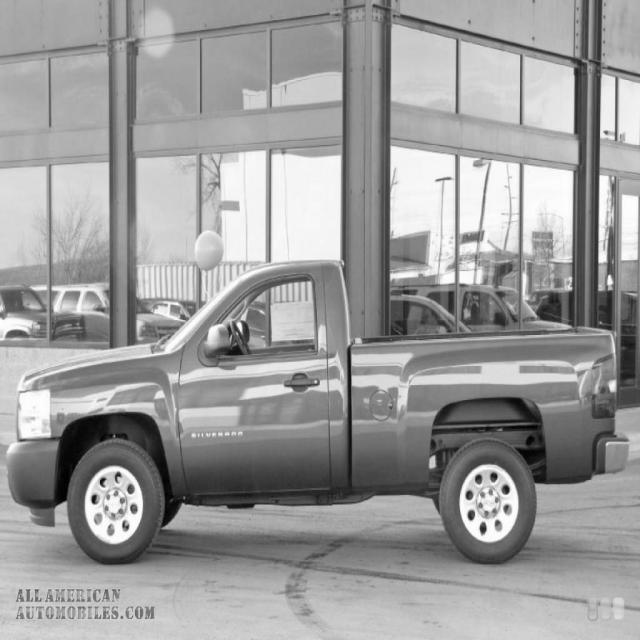car: (5, 257, 629, 566)
